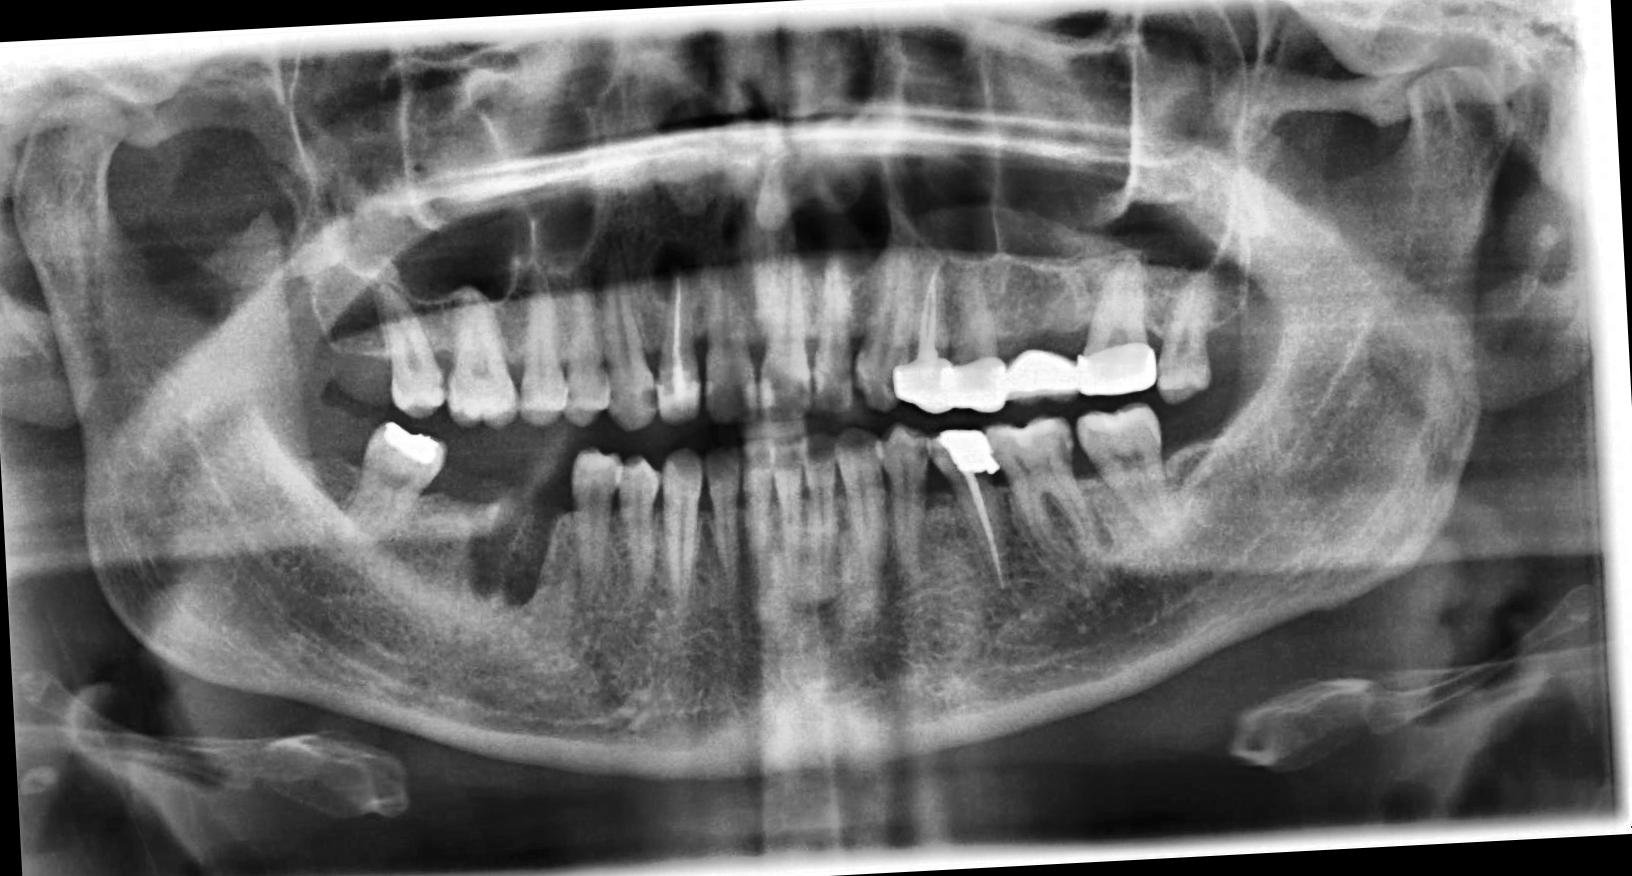radikuler: (645, 236, 705, 305)
